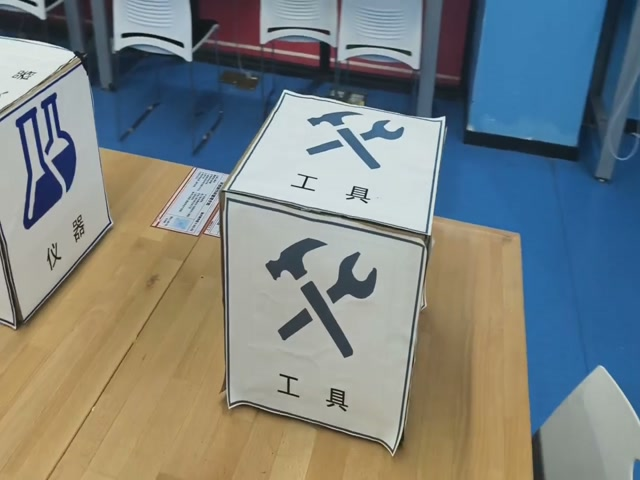Cube_tool: (223, 92, 444, 253)
